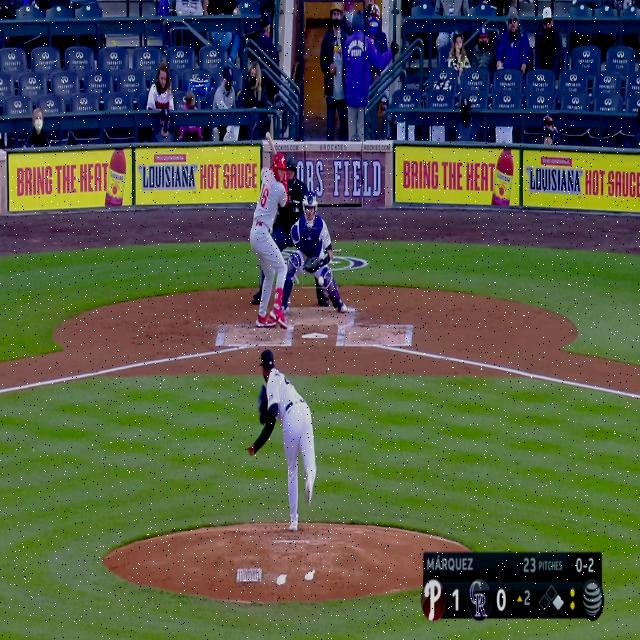baseball: (317, 275, 325, 287)
